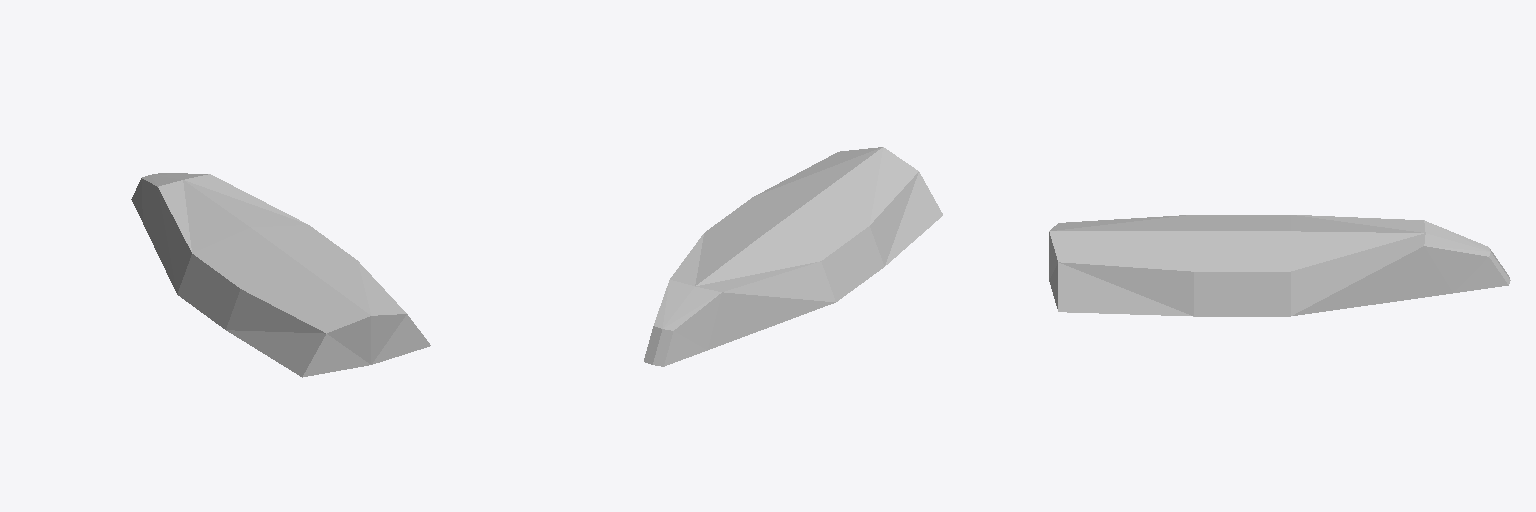
Rendered from cygnet_shield.obj.
The picture shows the model from 3 angles: view 1: azimuth 30°, elevation 25°; view 2: azimuth 150°, elevation 25°; view 3: azimuth 270°, elevation 25°; orthographic projection.
Parts seen in each view (by area): view 1: Cube.001; view 2: Cube.001; view 3: Cube.001.
Part boxes in pixels (x1,y1,x2,y2): Cube.001: (131,173,430,377); Cube.001: (644,147,942,366); Cube.001: (1049,215,1510,316).
Bounding box in the file's own units: 6.25 × 2 × 16.98.